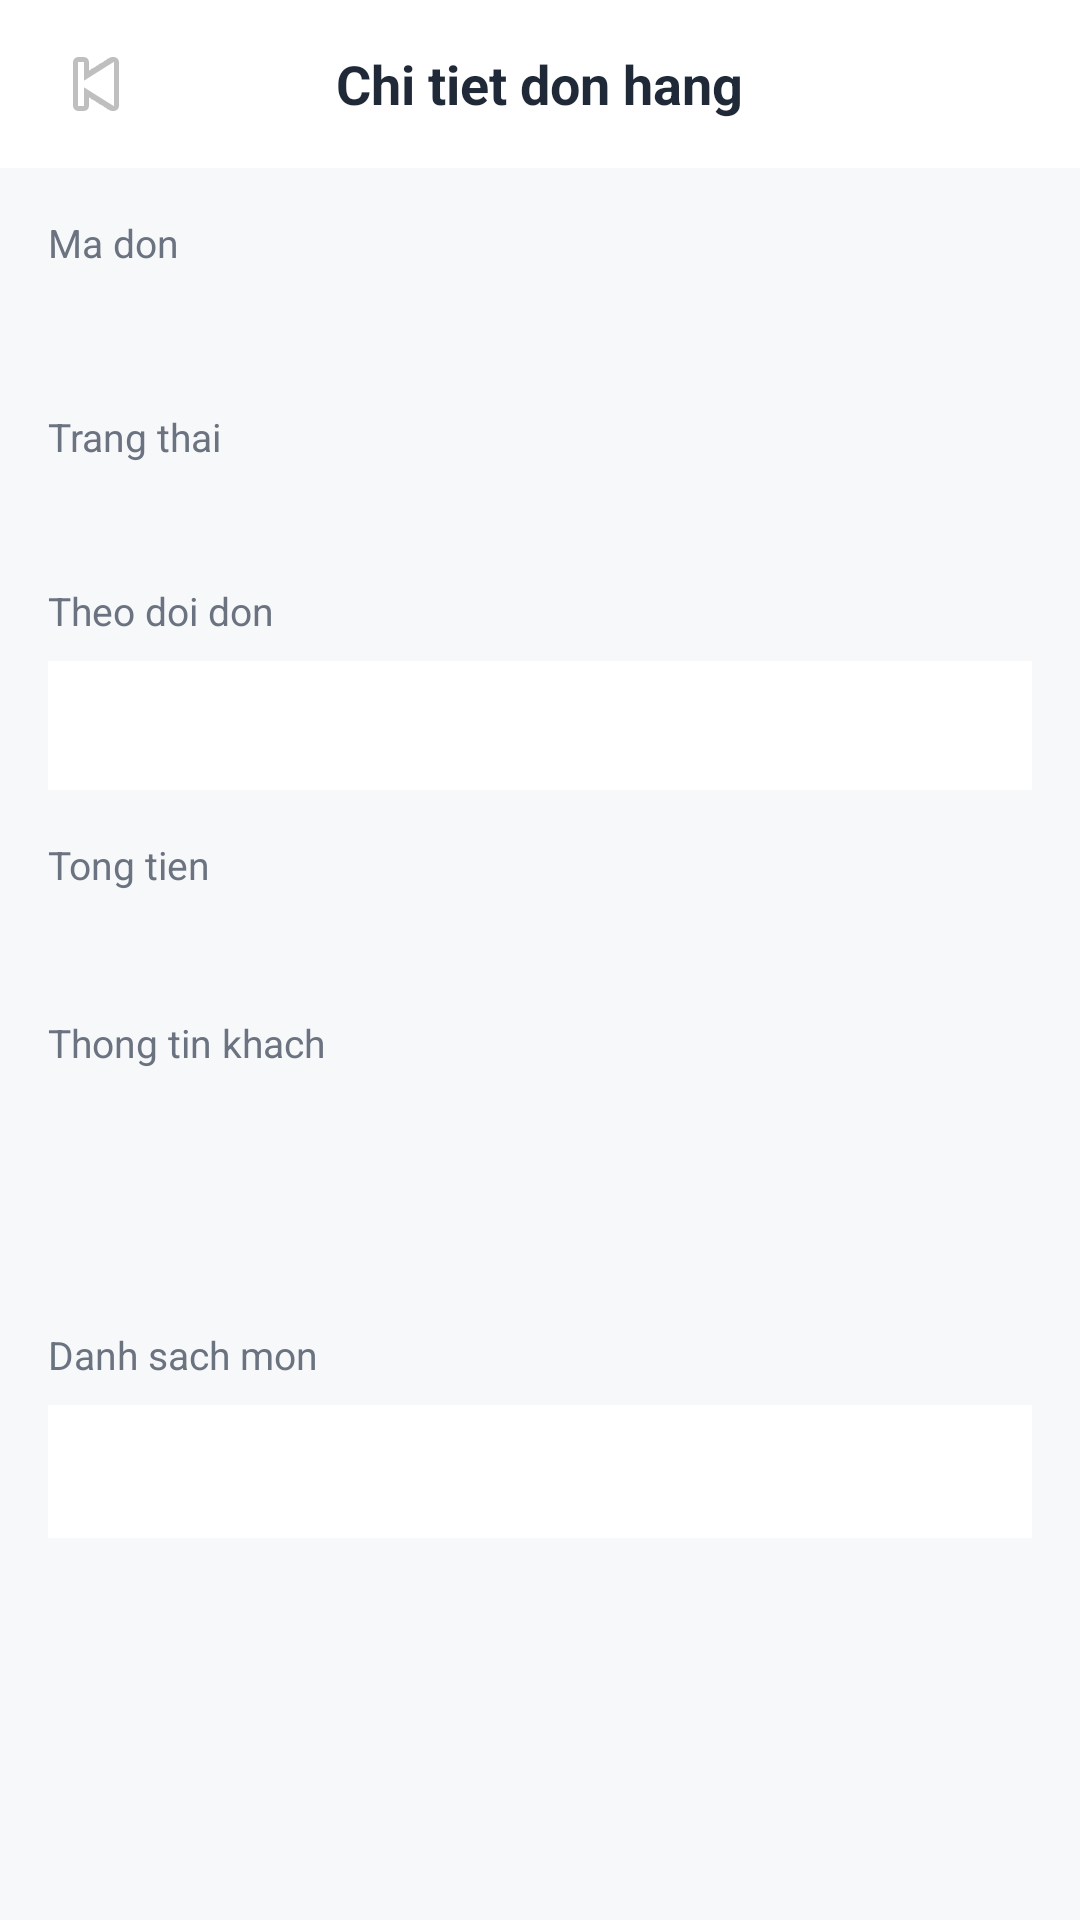

Icon bounding boxes for this 1080px x 1920px phone screenshot, format (x1, y1, x2, y2):
Back: (73, 57, 119, 111)
